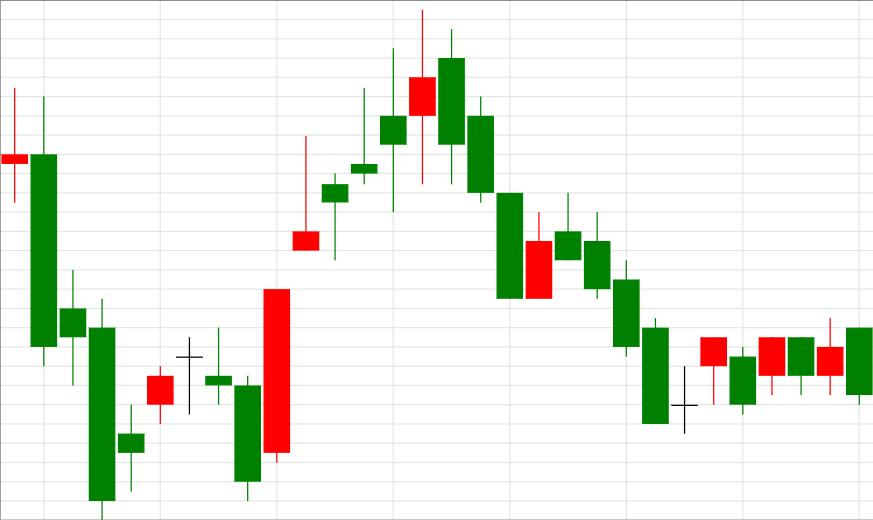three_black_crows_fall: (263, 9, 523, 464)
